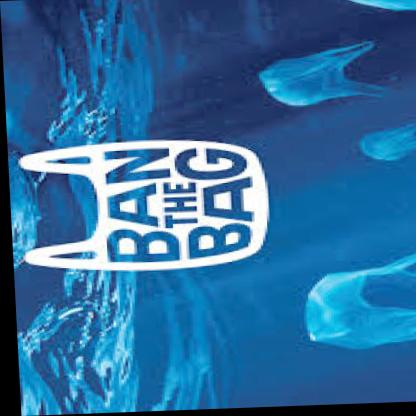Plastic: (288, 234, 416, 358), (252, 44, 386, 120), (356, 118, 416, 166)
